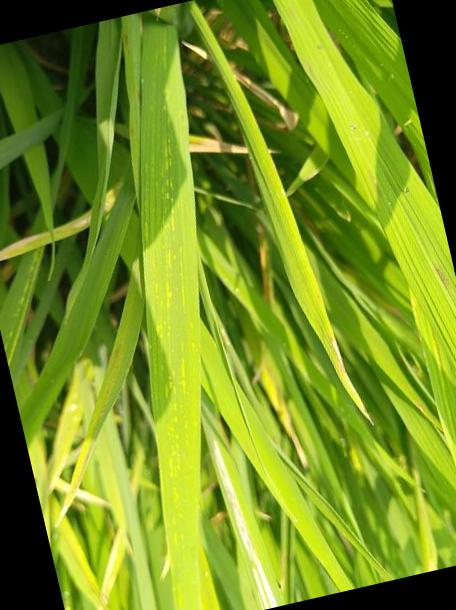Leaf Streak: (142, 106, 198, 518), (212, 442, 276, 609), (0, 208, 92, 261), (189, 137, 248, 152), (105, 187, 118, 213)
